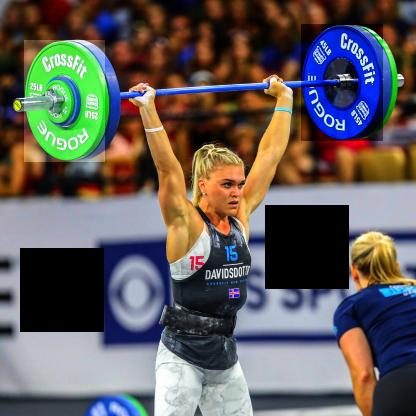barbell: (25, 41, 106, 163), (303, 25, 385, 142)
